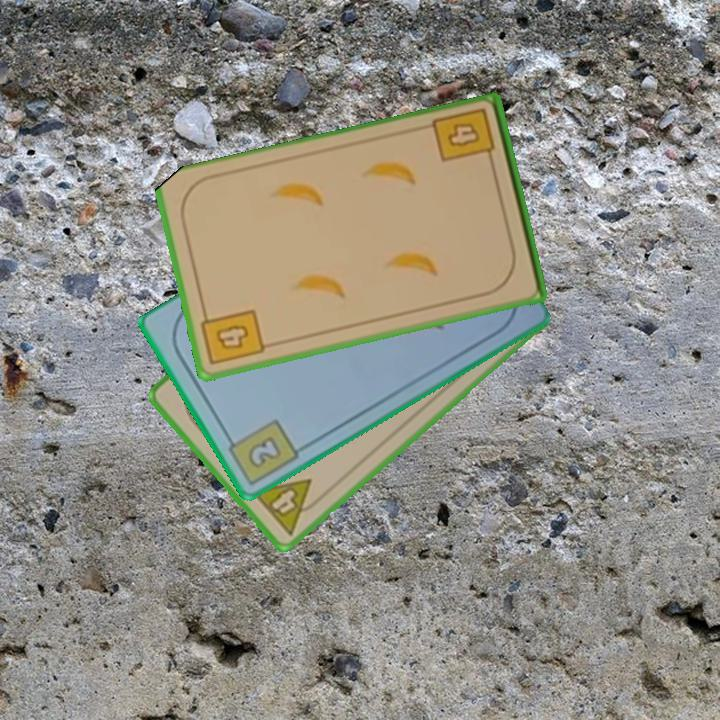2b: (221, 416, 302, 488)
4b: (429, 105, 498, 170), (198, 306, 267, 369)
4p: (247, 475, 328, 538)
